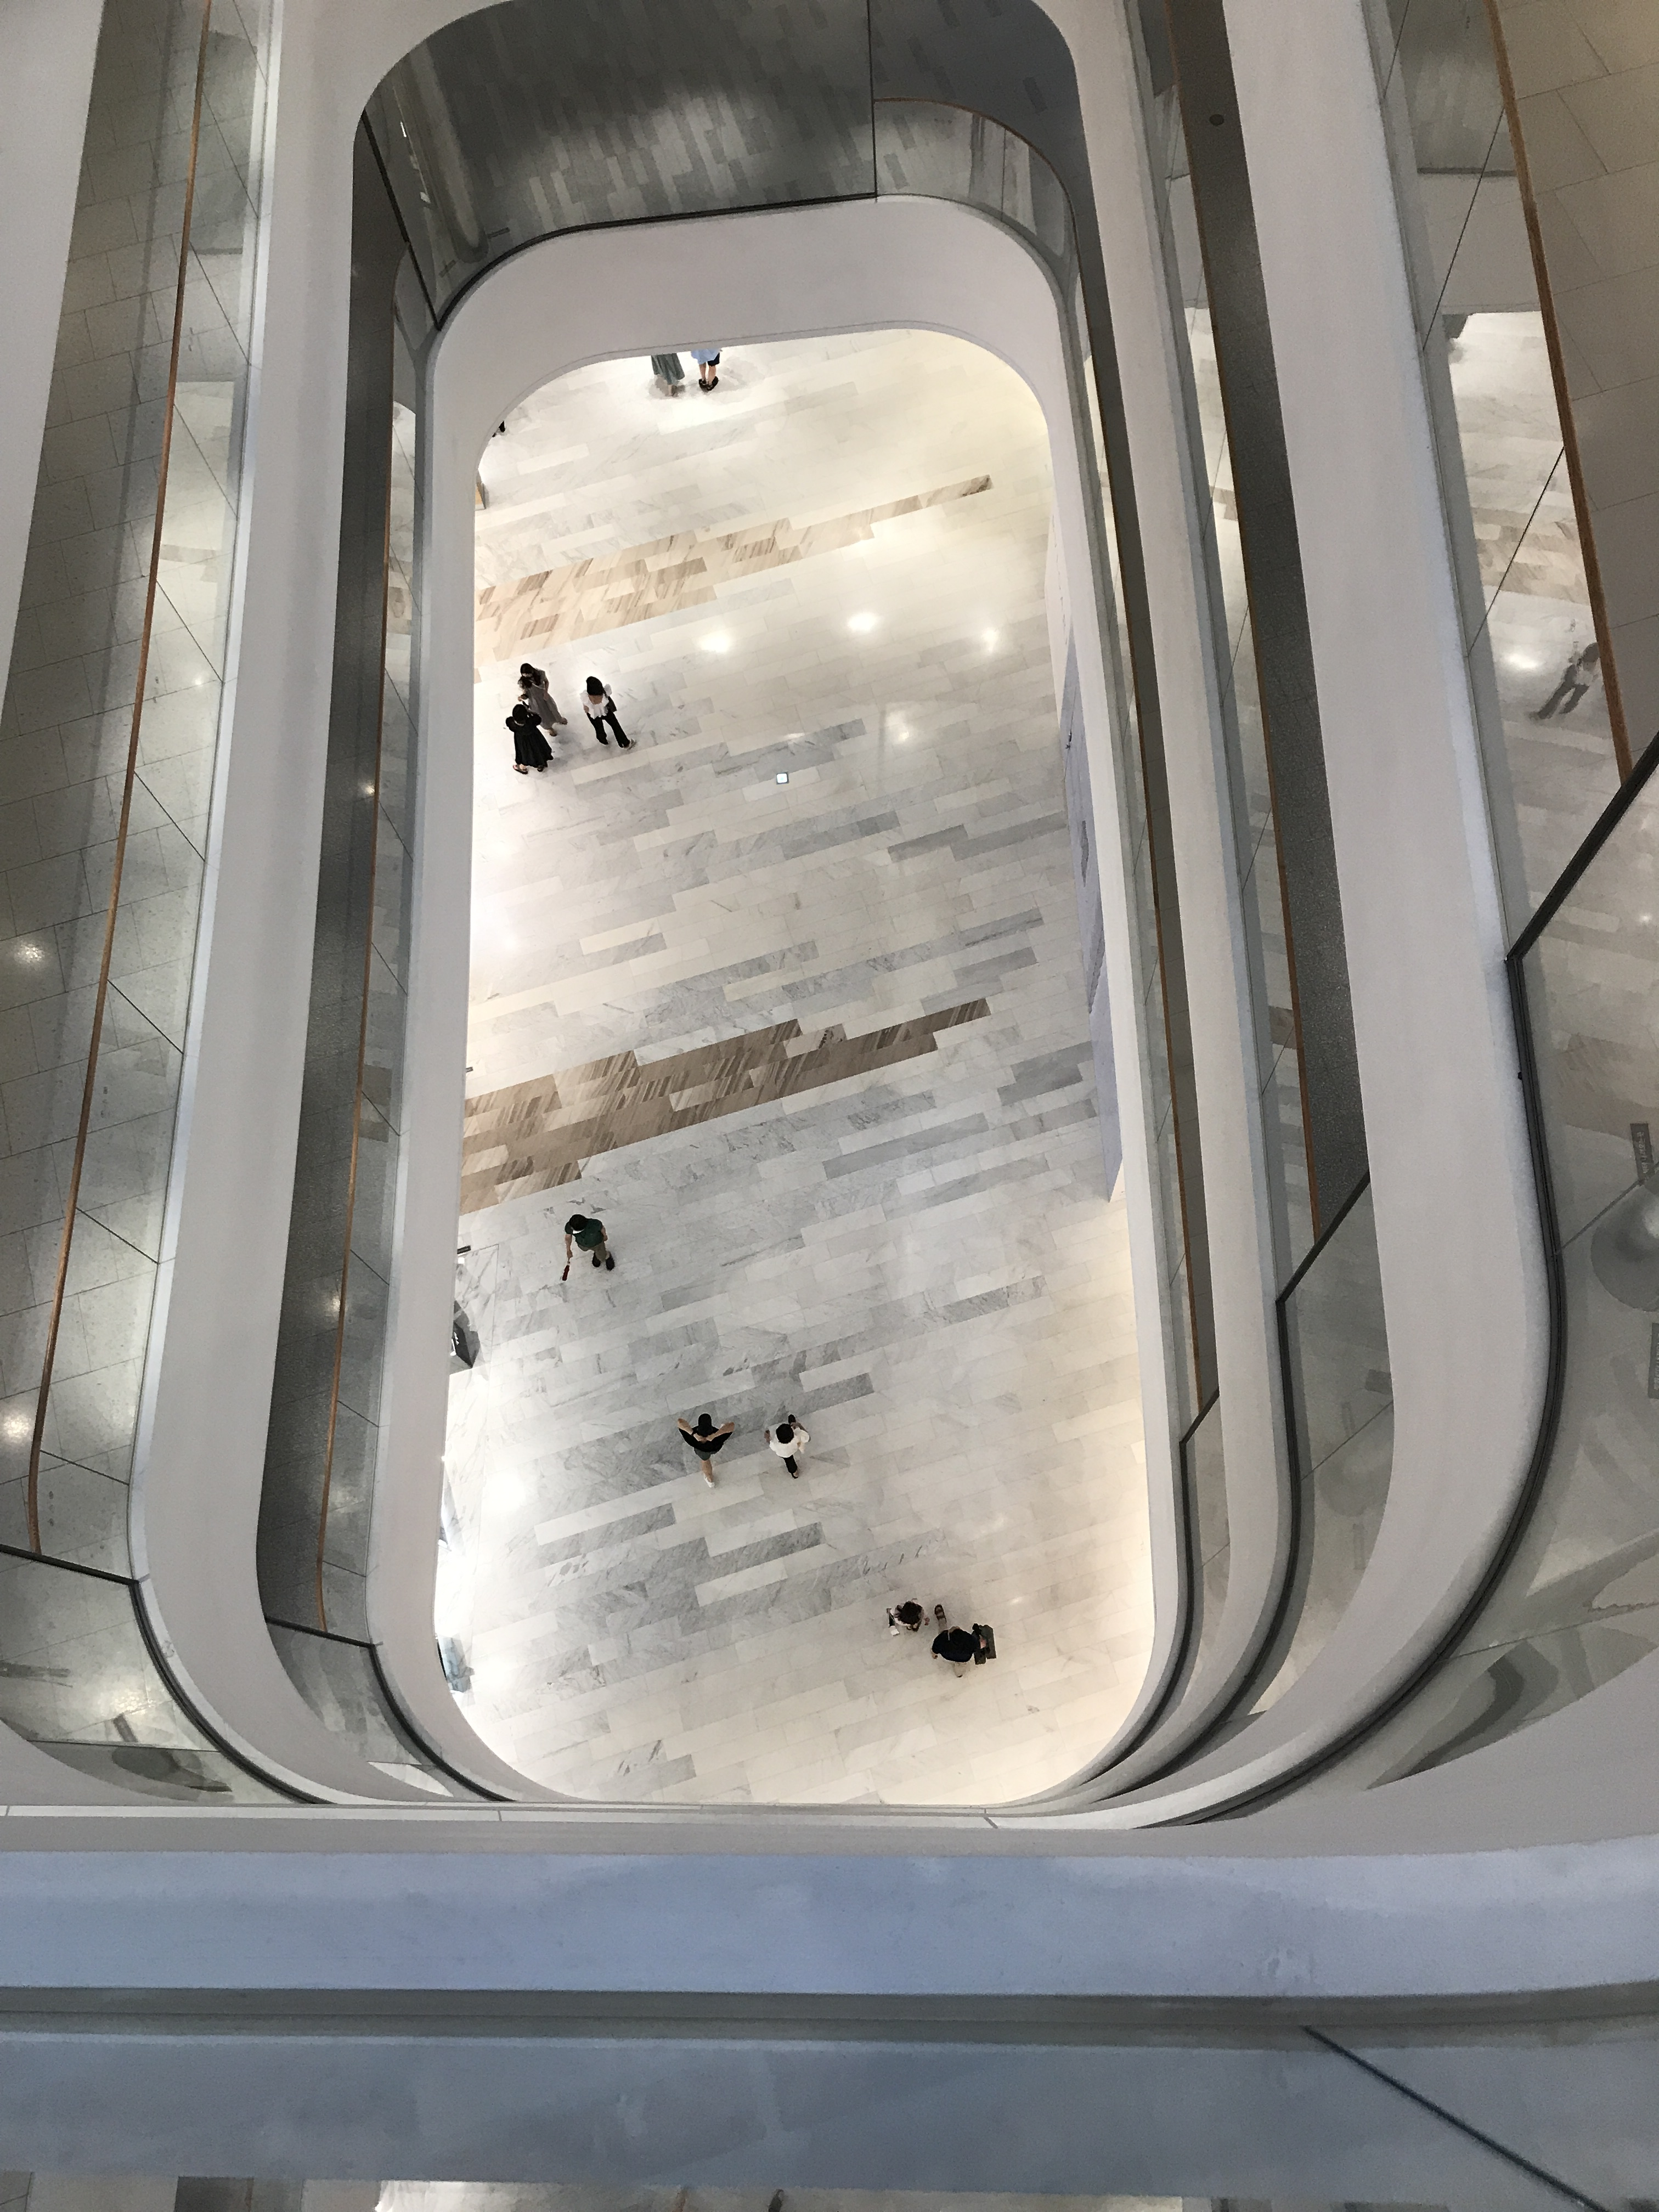person: (927, 1604, 1002, 1683), (557, 1213, 617, 1280), (582, 675, 635, 752), (678, 1414, 730, 1491), (515, 659, 565, 737), (759, 1414, 812, 1477), (505, 706, 554, 774), (882, 1599, 930, 1635), (651, 351, 683, 397), (690, 348, 723, 390)
